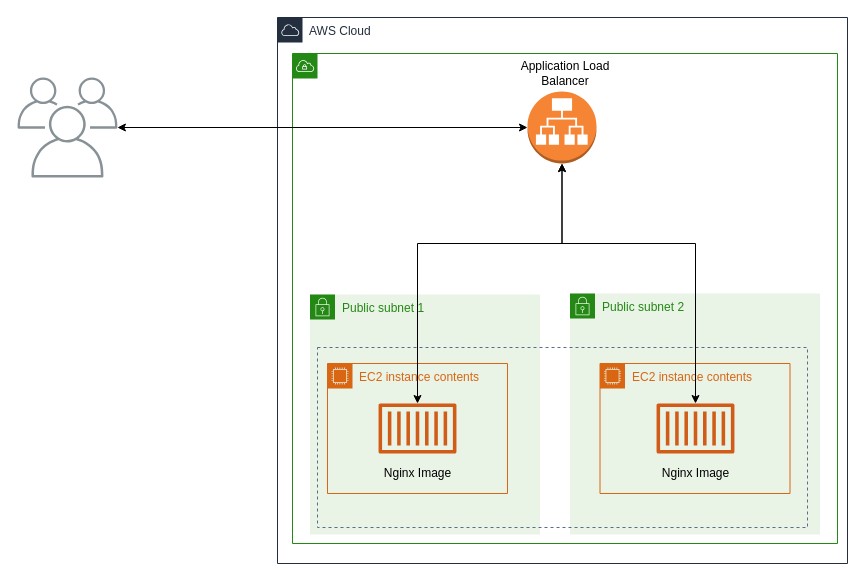
This 865x581 diagram has some shape labels left out. Each missing label, with the box of its shape:
ECS Cluster: (316, 346, 808, 528)
users: (17, 77, 117, 177)
VPC: (292, 52, 838, 544)
